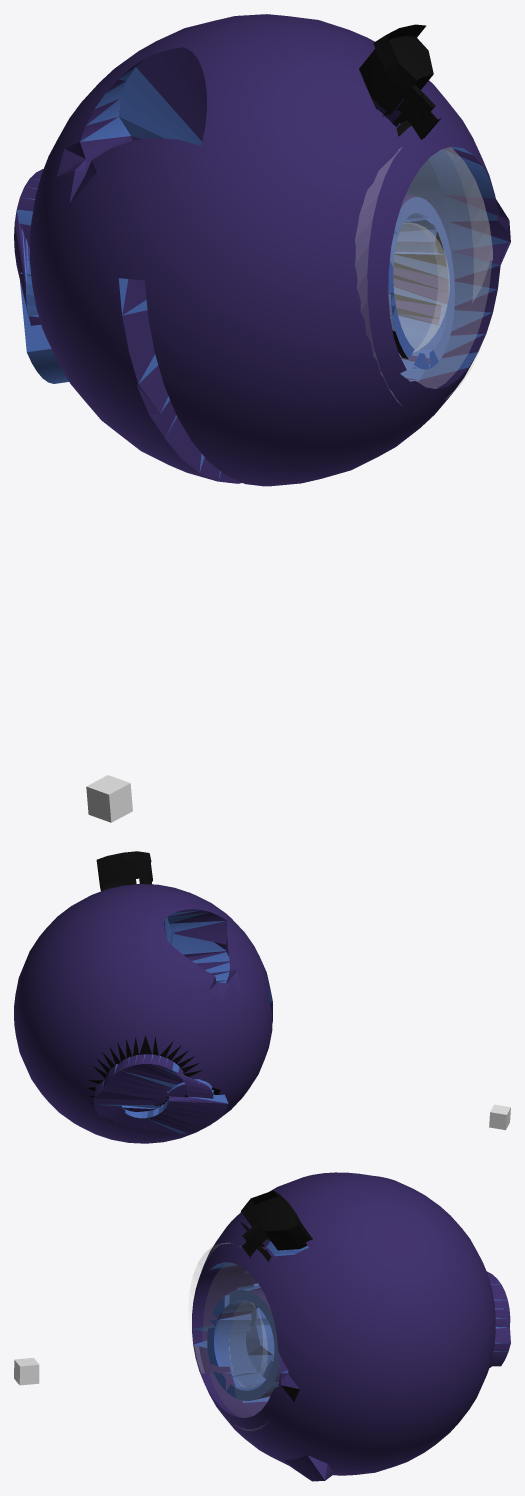
3 renders of one model, top to bottom at view 1: azimuth 30°, elevation 25°; view 2: azimuth 150°, elevation 25°; view 3: azimuth 270°, elevation 25°, orthographic. The views are drawn at different scales.
Parts seen in each view (by area): view 1: Untitled_v4001_5, Untitled_v4001_1, Cylinder, Cylinder001, Untitled_v4001, Cube, Untitled_v4001_4; view 2: Untitled_v4001_5, Untitled_v4001_1, Untitled_v4001, Untitled_v4001_3, Cube; view 3: Untitled_v4001_5, Cylinder, Untitled_v4001_1, Untitled_v4001, Cylinder001, Cube, Untitled_v4001_6.
Part boxes in pixels (left/top/right/bottom): Untitled_v4001_5: left=14, top=14, right=510, bottom=486; Untitled_v4001_1: left=16, top=67, right=508, bottom=480; Cylinder: left=355, top=147, right=492, bottom=403; Cylinder001: left=394, top=222, right=449, bottom=356; Untitled_v4001: left=359, top=24, right=435, bottom=128; Cube: left=86, top=775, right=132, bottom=822; Untitled_v4001_4: left=392, top=231, right=446, bottom=361; Untitled_v4001_5: left=14, top=884, right=272, bottom=1143; Untitled_v4001_1: left=98, top=910, right=272, bottom=1133; Untitled_v4001: left=96, top=851, right=152, bottom=891; Untitled_v4001_3: left=87, top=923, right=220, bottom=1129; Cube: left=489, top=1104, right=510, bottom=1130; Untitled_v4001_5: left=192, top=1172, right=510, bottom=1481; Cylinder: left=188, top=1242, right=279, bottom=1430; Untitled_v4001_1: left=193, top=1241, right=508, bottom=1402; Untitled_v4001: left=241, top=1190, right=312, bottom=1250; Cylinder001: left=229, top=1301, right=267, bottom=1387; Cube: left=14, top=1358, right=39, bottom=1385; Untitled_v4001_6: left=240, top=1222, right=299, bottom=1401.
Bounding box in the file's own units: 4.99 × 4.02 × 5.35.
